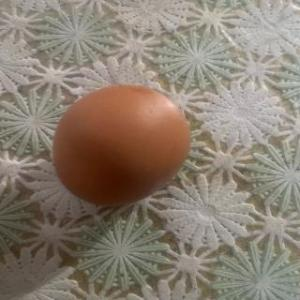egg: (51, 84, 193, 206)
